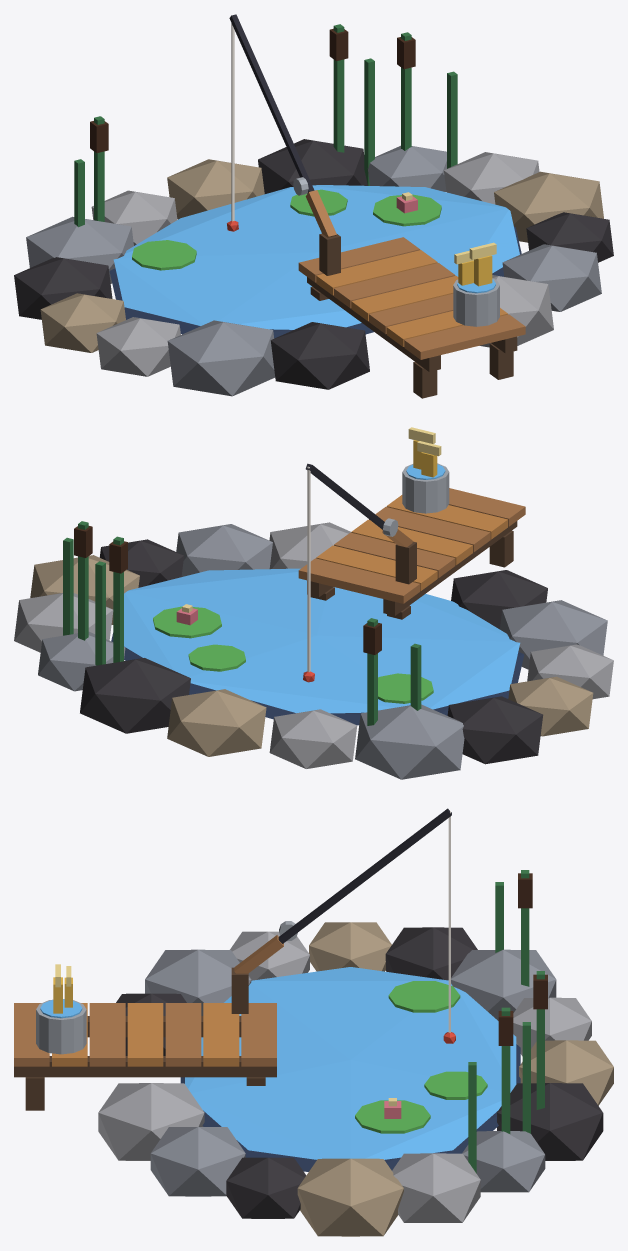
File: CatCafe_Camp_Woods_FishPond.glb
The picture shows the model from 3 angles, top to bottom: view 1: azimuth 30°, elevation 25°; view 2: azimuth 150°, elevation 25°; view 3: azimuth 270°, elevation 25°; orthographic projection. The views are drawn at different scales.
Visible parts, largest first — view 1: CatCafe_Camp_Woods_FishPond, CatCafe_Camp_Woods_FishPond_Water, CatCafe_Camp_Woods_FishPond_Rod; view 2: CatCafe_Camp_Woods_FishPond, CatCafe_Camp_Woods_FishPond_Water, CatCafe_Camp_Woods_FishPond_Rod; view 3: CatCafe_Camp_Woods_FishPond, CatCafe_Camp_Woods_FishPond_Water, CatCafe_Camp_Woods_FishPond_Rod.
Boxes of the visible parts, x1,y1,x2,y2 form: CatCafe_Camp_Woods_FishPond: (14, 24, 613, 398); CatCafe_Camp_Woods_FishPond_Water: (113, 185, 519, 329); CatCafe_Camp_Woods_FishPond_Rod: (227, 14, 336, 237); CatCafe_Camp_Woods_FishPond: (14, 427, 613, 779); CatCafe_Camp_Woods_FishPond_Water: (124, 568, 520, 713); CatCafe_Camp_Woods_FishPond_Rod: (303, 463, 412, 682); CatCafe_Camp_Woods_FishPond: (14, 870, 613, 1236); CatCafe_Camp_Woods_FishPond_Water: (185, 967, 516, 1159); CatCafe_Camp_Woods_FishPond_Rod: (234, 808, 455, 1043).
Bounding box in the file's own units: 6.56 × 2.98 × 5.7.
Materials: 1 (1 with a texture image).
